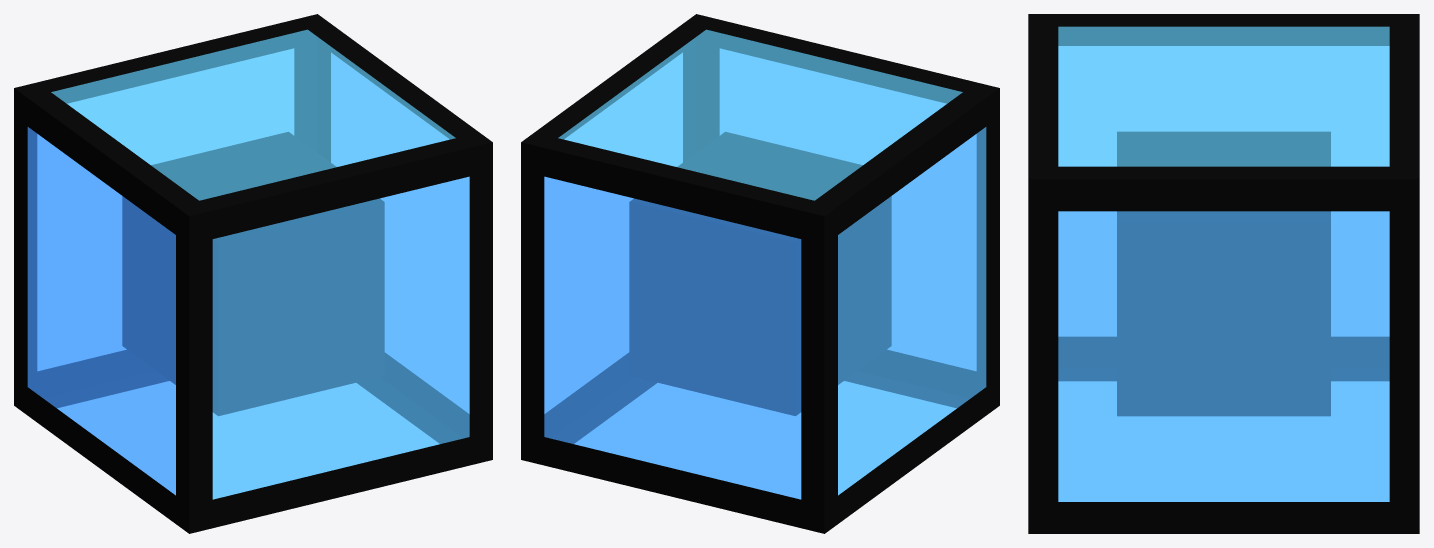
File: MemoryGameRezItem3.fbx
3 views of the same model, side by side, from view 1: azimuth 30°, elevation 25°; view 2: azimuth 150°, elevation 25°; view 3: azimuth 270°, elevation 25° (orthographic). The views are drawn at different scales.
Visible parts, largest first — view 1: Cube, Cube.001; view 2: Cube, Cube.001; view 3: Cube, Cube.001.
Boxes of the visible parts, box(x1,y1,x2,y2) form: Cube: box(14, 14, 492, 533); Cube.001: box(122, 132, 384, 415); Cube: box(521, 14, 999, 533); Cube.001: box(629, 132, 891, 415); Cube: box(1028, 14, 1419, 533); Cube.001: box(1117, 132, 1330, 415).
Size of the model in its own units: 200 by 200 by 200.
